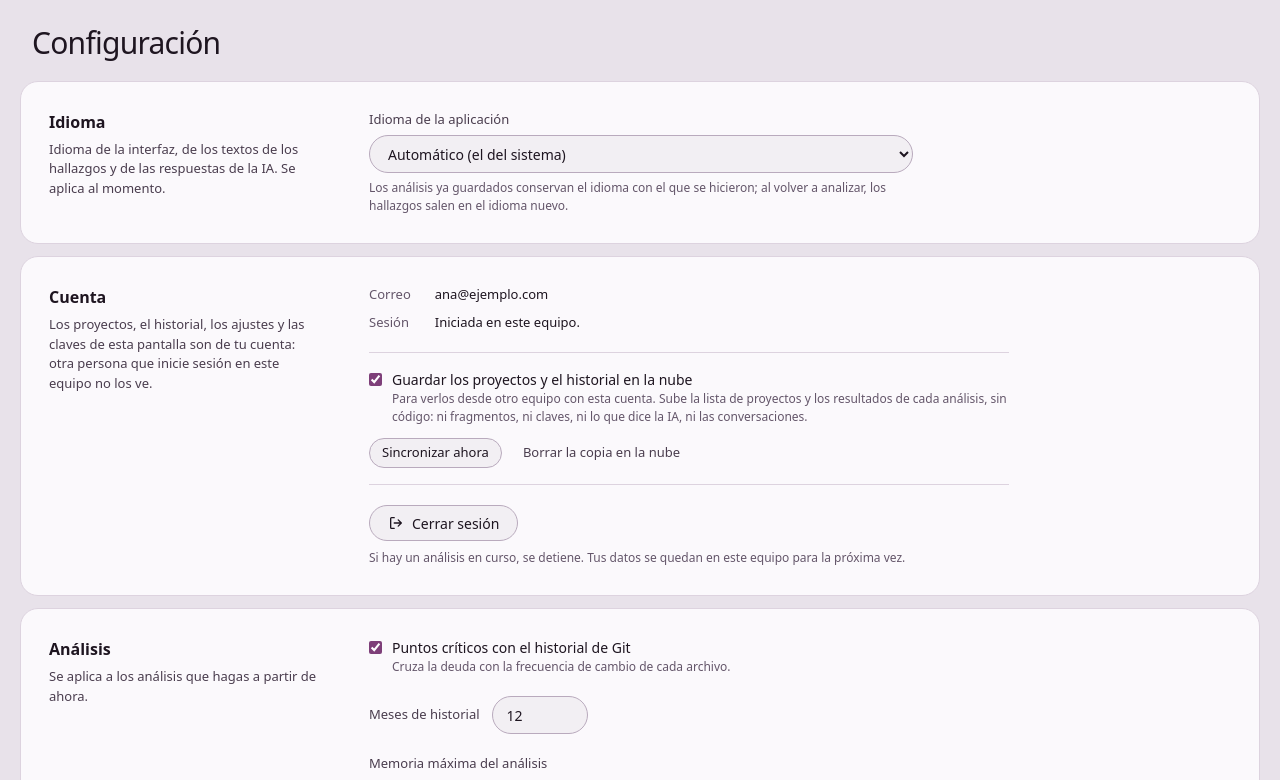
Test: Configuración › el idioma se aplica al elegirlo, sin pasar por el borrador
Select "English" in the dropdown labelled "Idioma de la aplicación" at (641, 154), box [369,135,913,173]
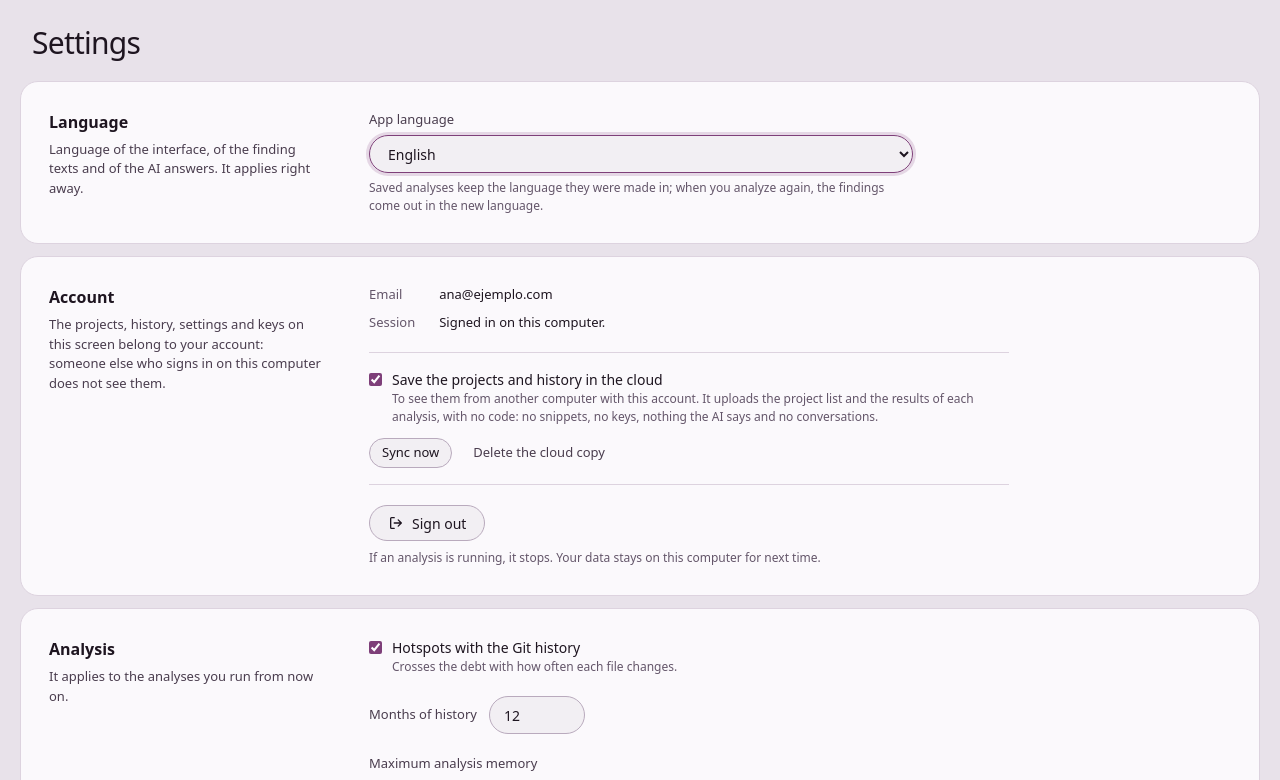
Check: the checkbox labelled "Hotspots with the Git history" is checked, box [369,641,382,654]
Check: the heading "Settings" is shown, box [32,22,140,63]
